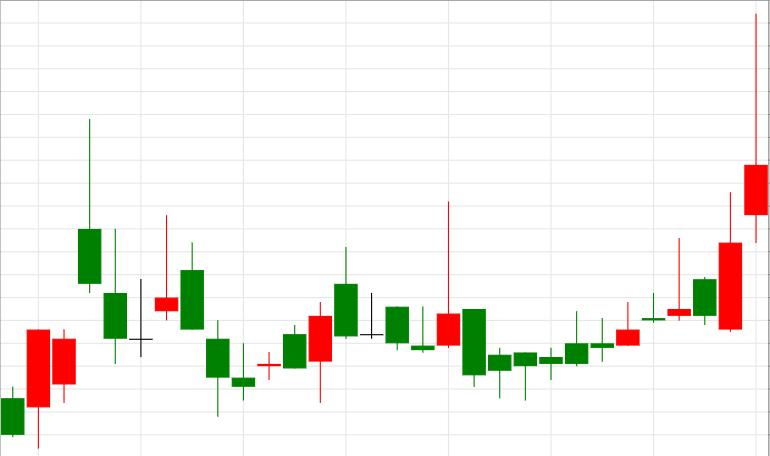shooting_star_fall: (514, 14, 768, 401), (1, 119, 101, 448)
